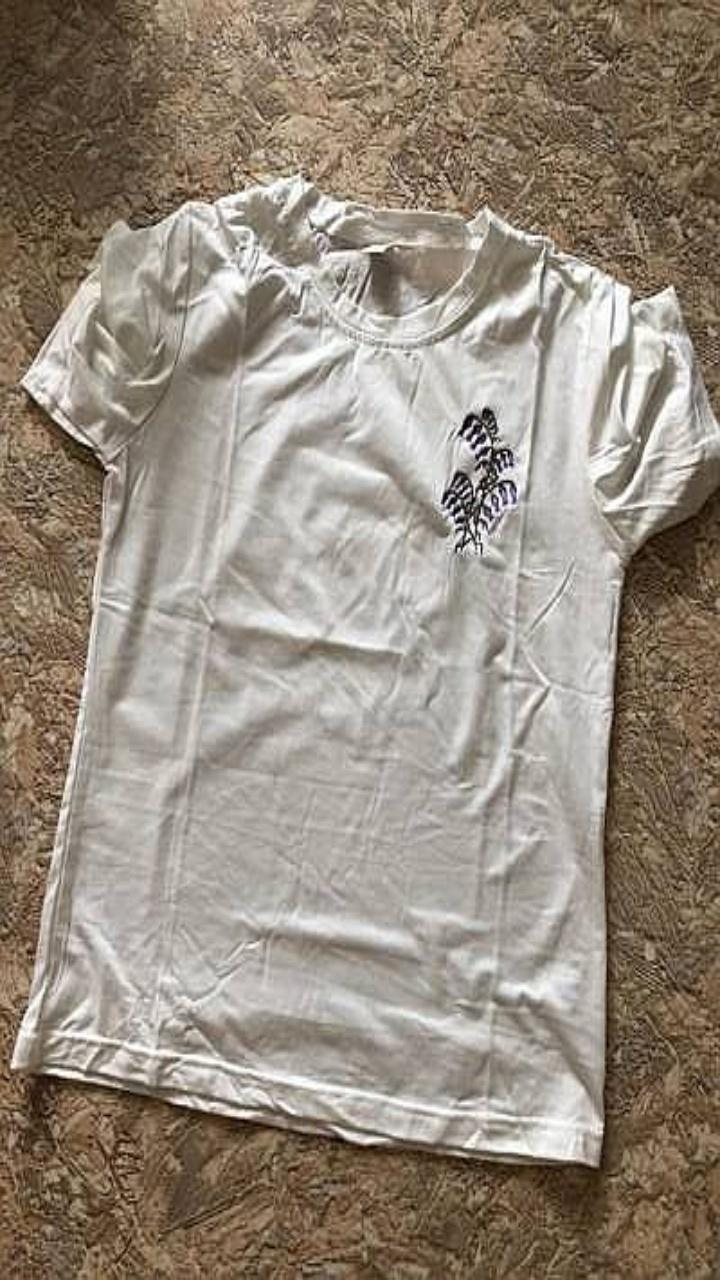T-Shirt: (11, 172, 719, 1166)
